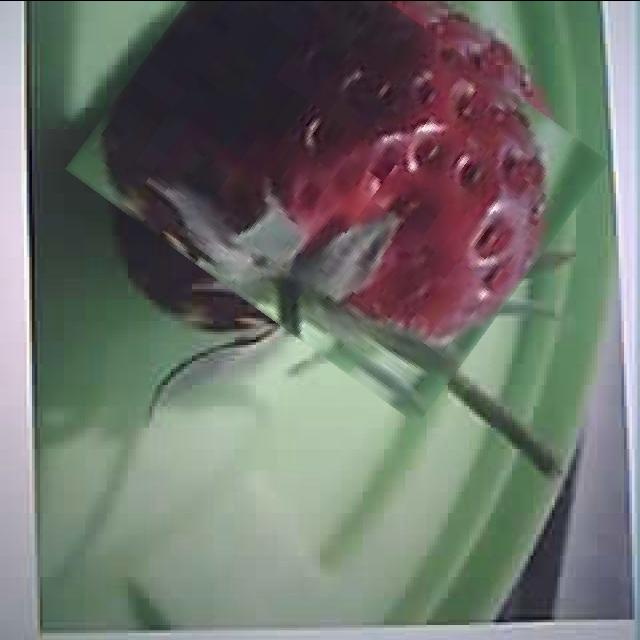strawberry: (92, 0, 582, 375)
